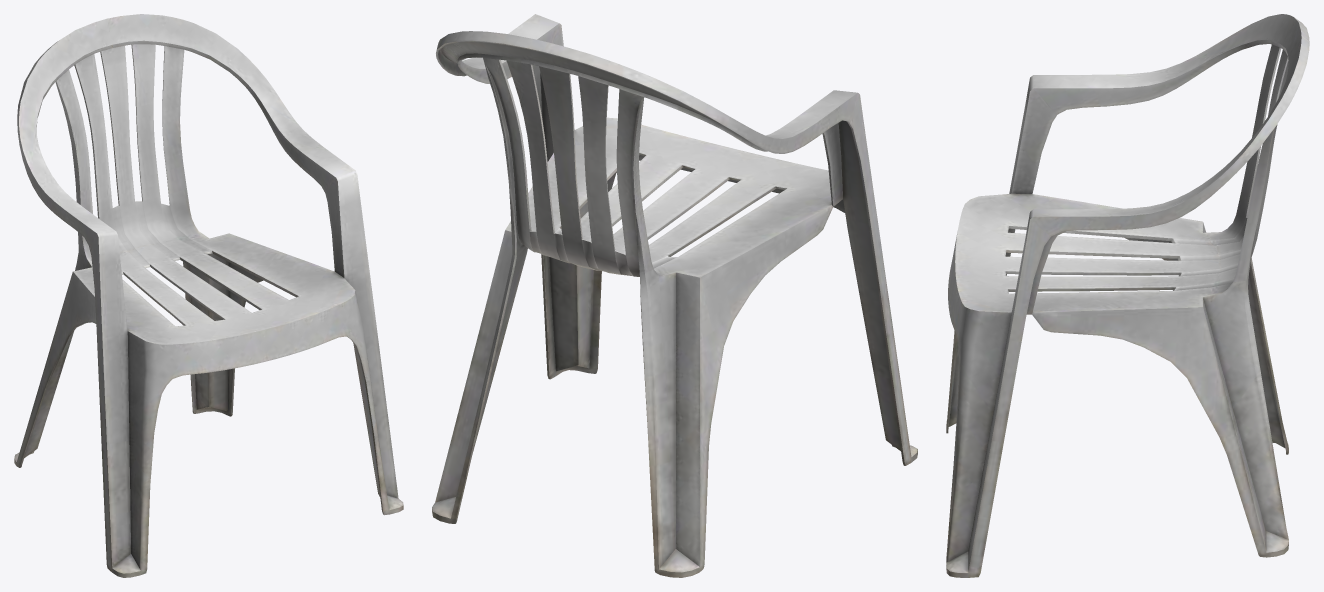
3 views of the same model, side by side, from view 1: azimuth 30°, elevation 25°; view 2: azimuth 150°, elevation 25°; view 3: azimuth 270°, elevation 25° (orthographic). The views are drawn at different scales.
Parts seen in each view (by area): view 1: plastic_monobloc_chair_01; view 2: plastic_monobloc_chair_01; view 3: plastic_monobloc_chair_01.
Boxes of the visible parts, x1,y1,x2,y2 form: plastic_monobloc_chair_01: (14, 14, 403, 577); plastic_monobloc_chair_01: (432, 14, 917, 577); plastic_monobloc_chair_01: (946, 14, 1309, 577).
Bounding box in the file's own units: 0.6419 × 0.8798 × 0.6276.
1 material, 1 textured.
